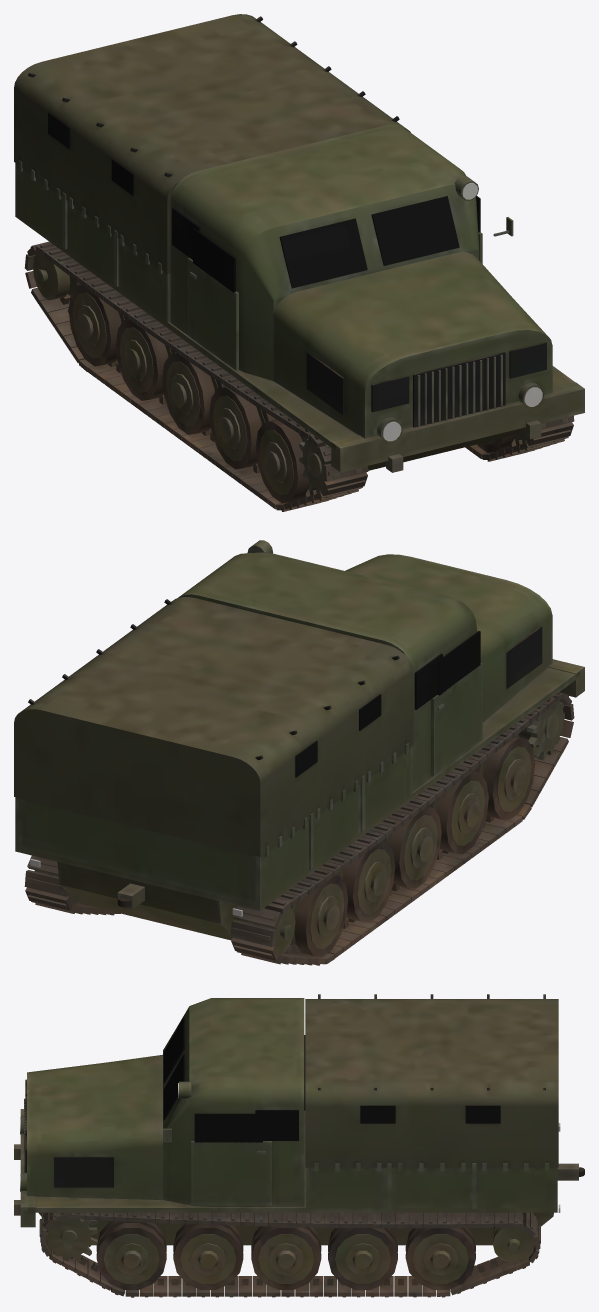
Rendered from ats59.glb.
3 renders of one model, top to bottom at view 1: azimuth 30°, elevation 25°; view 2: azimuth 150°, elevation 25°; view 3: azimuth 270°, elevation 25°, orthographic. The views are drawn at different scales.
Visible parts, largest first — view 1: than, mui_bat, xich_phai, cua_phai, banh_phai_2, banh_phai_1, banh_phai_3, banh_phai_4, banh_phai_5, xich_trai, banh_dan_huong_phai, banh_chu_dong_phai; view 2: mui_bat, than, xich_phai, cua_sau, cua_phai, banh_phai_1, banh_phai_5, banh_phai_2, banh_phai_4, banh_phai_3, xich_trai, banh_chu_dong_phai (+1 smaller); view 3: than, mui_bat, xich_trai, cua_trai, banh_trai_1, banh_trai_2, banh_trai_3, banh_trai_5, banh_trai_4, banh_chu_dong_trai, banh_dan_huong_trai.
Part boxes in pixels (x1=…): than: x1=15, y1=124, x2=584, y2=472; mui_bat: x1=14, y1=14, x2=410, y2=273; xich_phai: x1=24, y1=241, x2=368, y2=511; cua_phai: x1=187, y1=228, x2=238, y2=370; banh_phai_2: x1=209, y1=386, x2=276, y2=469; banh_phai_1: x1=255, y1=419, x2=309, y2=503; banh_phai_3: x1=162, y1=353, x2=225, y2=434; banh_phai_4: x1=115, y1=319, x2=175, y2=400; banh_phai_5: x1=68, y1=284, x2=127, y2=366; xich_trai: x1=465, y1=415, x2=574, y2=461; banh_dan_huong_phai: x1=33, y1=252, x2=80, y2=300; banh_chu_dong_phai: x1=299, y1=436, x2=361, y2=497; mui_bat: x1=14, y1=597, x2=413, y2=856; than: x1=15, y1=540, x2=584, y2=940; xich_phai: x1=230, y1=692, x2=574, y2=965; cua_sau: x1=19, y1=798, x2=256, y2=904; cua_phai: x1=431, y1=631, x2=482, y2=775; banh_phai_1: x1=472, y1=736, x2=535, y2=819; banh_phai_5: x1=290, y1=875, x2=348, y2=956; banh_phai_2: x1=428, y1=771, x2=488, y2=853; banh_phai_4: x1=336, y1=841, x2=395, y2=922; banh_phai_3: x1=383, y1=806, x2=441, y2=888; xich_trai: x1=24, y1=855, x2=120, y2=915; banh_chu_dong_phai: x1=515, y1=700, x2=564, y2=760; than: x1=14, y1=998, x2=584, y2=1245; mui_bat: x1=305, y1=999, x2=558, y2=1167; xich_trai: x1=39, y1=1212, x2=540, y2=1297; cua_trai: x1=191, y1=1113, x2=271, y2=1205; banh_trai_1: x1=96, y1=1215, x2=166, y2=1289; banh_trai_2: x1=173, y1=1215, x2=243, y2=1289; banh_trai_3: x1=251, y1=1215, x2=321, y2=1289; banh_trai_5: x1=405, y1=1215, x2=475, y2=1289; banh_trai_4: x1=328, y1=1215, x2=397, y2=1289; banh_chu_dong_trai: x1=40, y1=1212, x2=97, y2=1262; banh_dan_huong_trai: x1=493, y1=1213, x2=534, y2=1262.
Bounding box in the file's own units: 2.84 × 2.64 × 6.51.
1 material, 1 textured.
